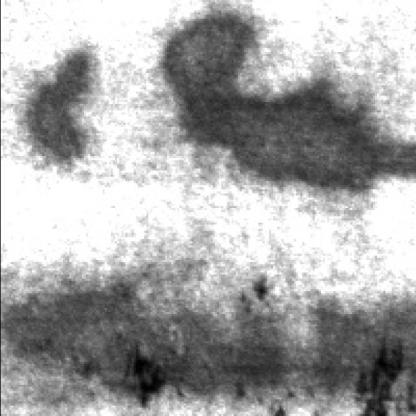patches: (166, 20, 416, 193), (8, 285, 290, 401), (284, 291, 416, 401), (25, 42, 108, 160)
